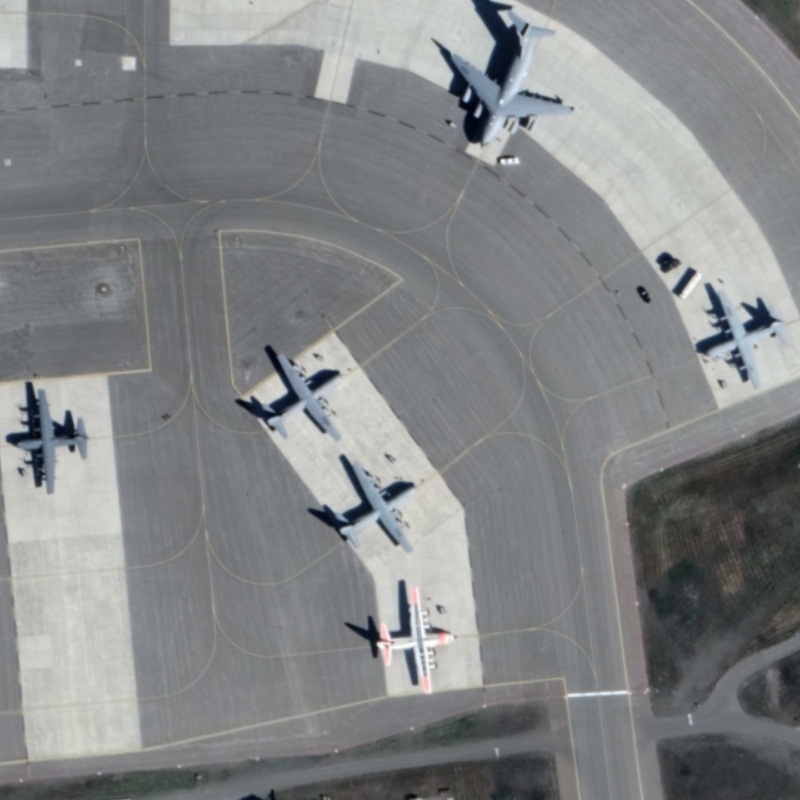A2: (360, 572, 458, 700), (690, 279, 794, 391), (314, 450, 425, 554), (4, 375, 96, 500), (242, 344, 347, 443)
A3: (427, 5, 578, 159)
